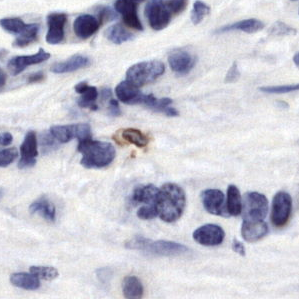Lymphocyte: (119, 126, 152, 147)
